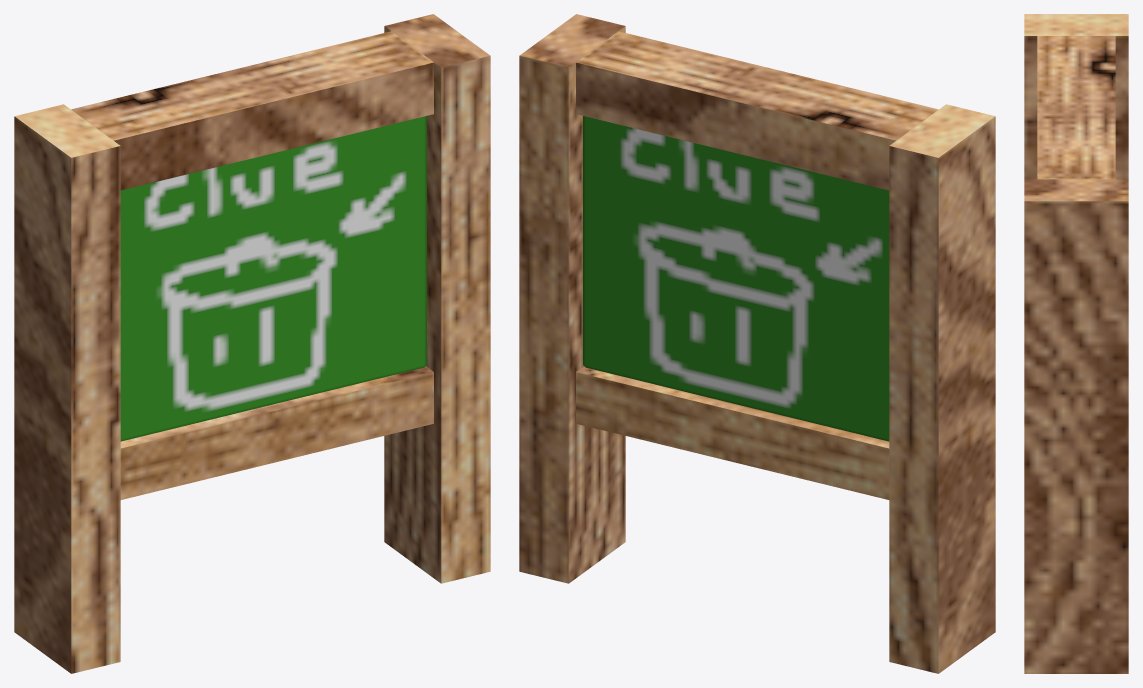
Rendered from mapboard.fbx.
The picture shows the model from 3 angles, left to right: view 1: azimuth 30°, elevation 25°; view 2: azimuth 150°, elevation 25°; view 3: azimuth 270°, elevation 25°; orthographic projection. The views are drawn at different scales.
Parts seen in each view (by area): view 1: woodframe, canvas; view 2: woodframe, canvas; view 3: woodframe.
Part boxes in pixels (x1=…): woodframe: x1=14, y1=14, x2=490, y2=673; canvas: x1=120, y1=116, x2=426, y2=441; woodframe: x1=519, y1=14, x2=995, y2=673; canvas: x1=583, y1=116, x2=889, y2=441; woodframe: x1=1024, y1=14, x2=1128, y2=673.
Size of the model in its own units: 53.12 by 62.5 by 12.5.
Materials: 2 (2 with a texture image).
